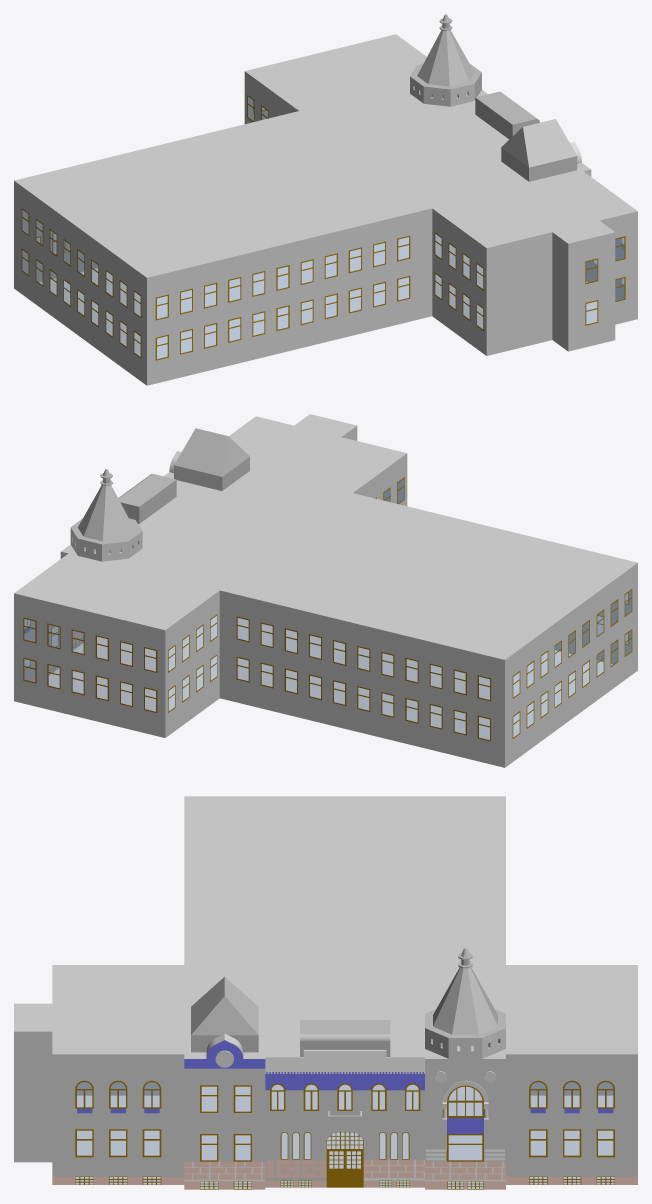
The model's file is muzey-maslenikova.glb.
The picture shows the model from 3 angles, top to bottom: view 1: azimuth 30°, elevation 25°; view 2: azimuth 150°, elevation 25°; view 3: azimuth 270°, elevation 25°; orthographic projection. The views are drawn at different scales.
Visible parts, largest first — view 1: Geom3D (×4); view 2: Geom3D (×4); view 3: Geom3D (×7), Geom3D_.
Part boxes in pixels (bbox=[...]): Geom3D (×4): bbox=[14, 14, 637, 385]; Geom3D (×4): bbox=[14, 414, 637, 767]; Geom3D (×7): bbox=[14, 796, 637, 1189]; Geom3D_: bbox=[215, 1050, 496, 1119].
Size of the model in its own units: 1.92 by 0.7547 by 1.91.
